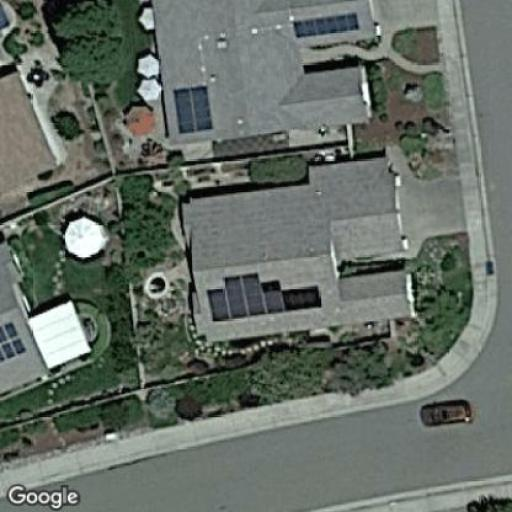solar-panel: (204, 269, 324, 321), (169, 80, 217, 138), (288, 10, 364, 43), (0, 318, 27, 366)
